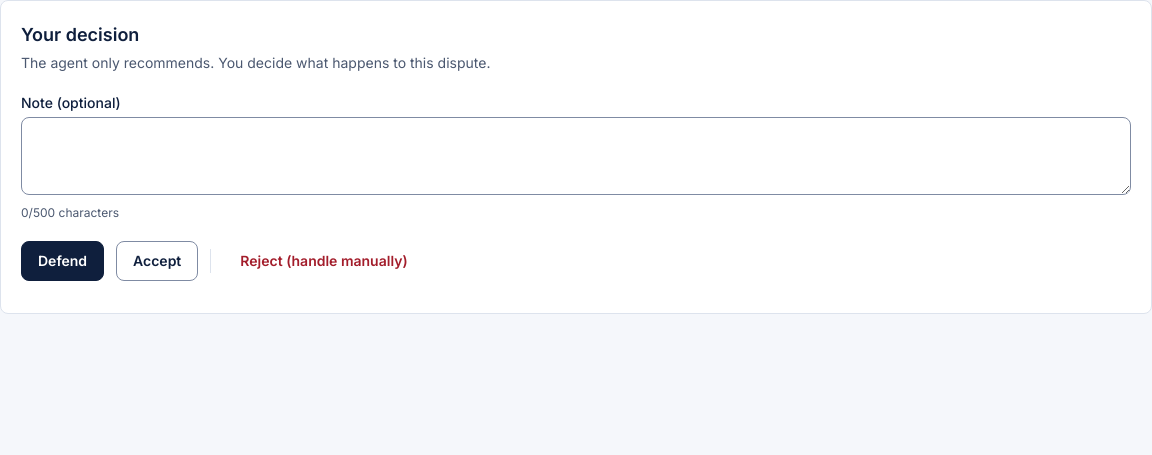
Test: blocking flag override: confirm before defending › Accept does not show the blocking-flag warning, only its own confirmation
Click the button "Accept".
click(157, 261)  # box [116,241,198,281]
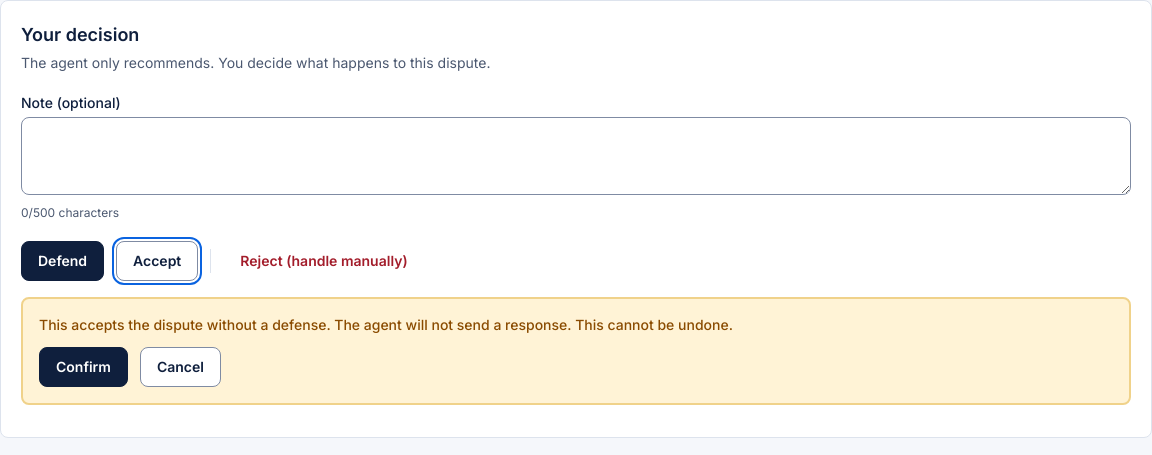
Now the text "accepts the dispute without a defense" is shown, box [39,316,733,333]
